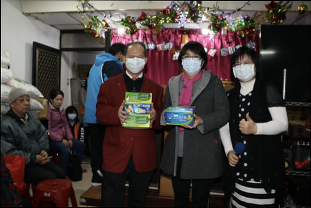with_mask: (231, 59, 255, 83), (181, 53, 203, 75), (126, 53, 145, 74), (66, 111, 76, 122)
without_mask: (12, 97, 30, 114), (51, 97, 63, 109)
